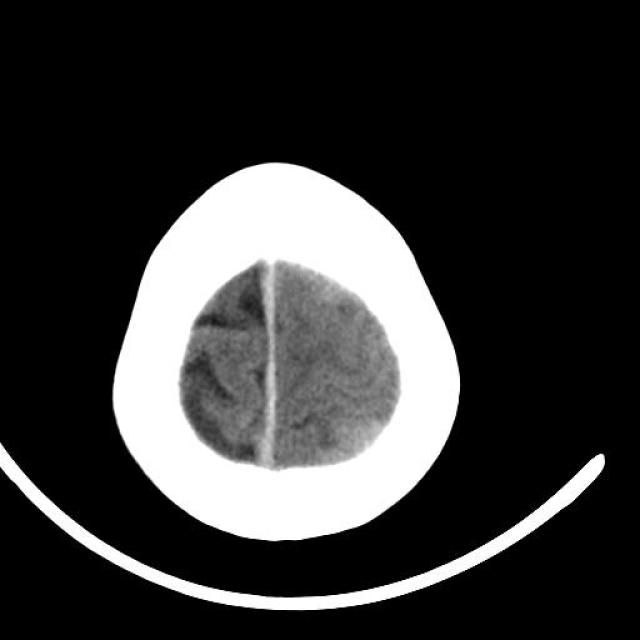Subdural: (241, 252, 300, 483)
